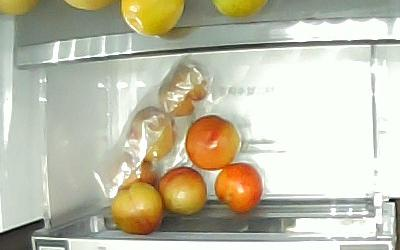prune: (184, 113, 240, 170), (109, 179, 163, 234), (213, 161, 263, 212), (158, 165, 207, 215)
prune_vinyl: (157, 60, 208, 117), (125, 104, 176, 161), (112, 161, 155, 190)
